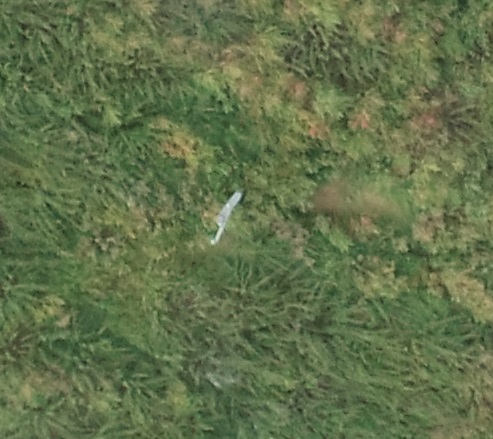opora: (210, 191, 244, 245)
